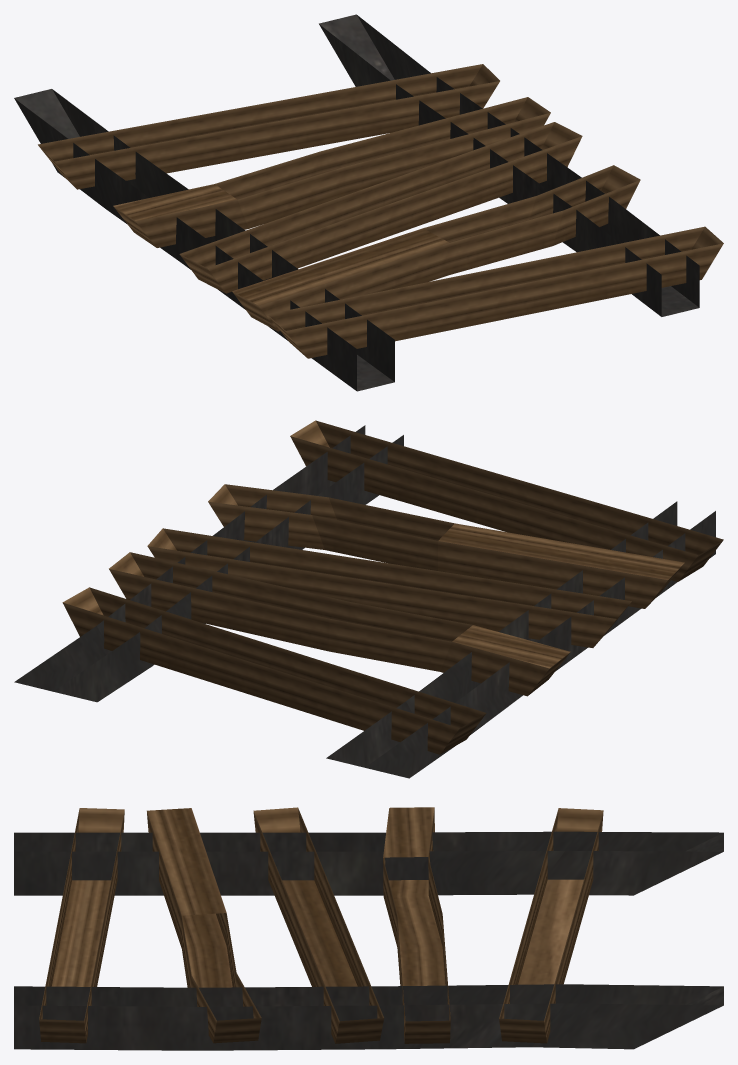
Rendered from mine_rail_end.glb.
The picture shows the model from 3 angles, top to bottom: view 1: azimuth 30°, elevation 25°; view 2: azimuth 150°, elevation 25°; view 3: azimuth 270°, elevation 25°; orthographic projection. The views are drawn at different scales.
Visible parts, largest first — view 1: Rail_end; view 2: Rail_end; view 3: Rail_end.
Part boxes in pixels (bbox=[...]): Rail_end: bbox=[14, 14, 723, 391]; Rail_end: bbox=[14, 420, 723, 778]; Rail_end: bbox=[14, 807, 723, 1050].
Size of the model in its own units: 4.87 by 0.5144 by 6.82.
Materials: 2 (2 with a texture image).
